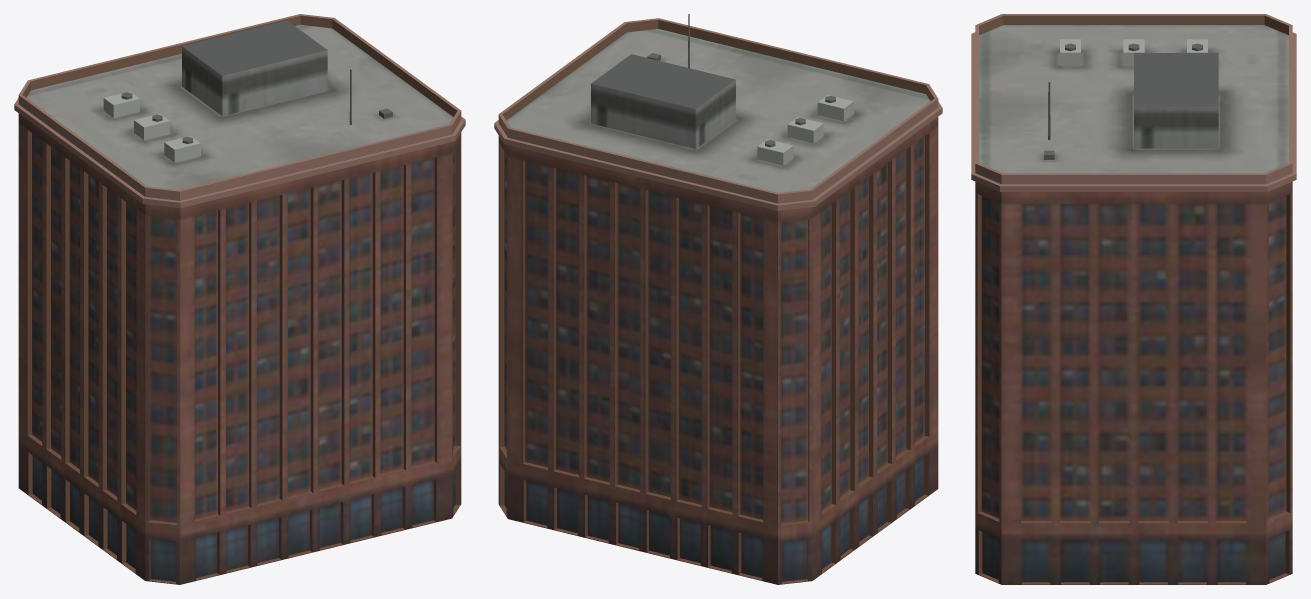
Rendered from dc_office_band_c.glb.
3 views of the same model, side by side, from view 1: azimuth 30°, elevation 25°; view 2: azimuth 150°, elevation 25°; view 3: azimuth 270°, elevation 25° (orthographic). The views are drawn at different scales.
Visible parts, largest first — view 1: dc_office_band_c; view 2: dc_office_band_c; view 3: dc_office_band_c.
Part boxes in pixels (bbox=[...]): dc_office_band_c: bbox=[14, 14, 465, 584]; dc_office_band_c: bbox=[494, 14, 942, 584]; dc_office_band_c: bbox=[971, 14, 1296, 584].
Bounding box in the file's own units: 36.8 × 47.8 × 30.8.
1 material, 1 textured.
